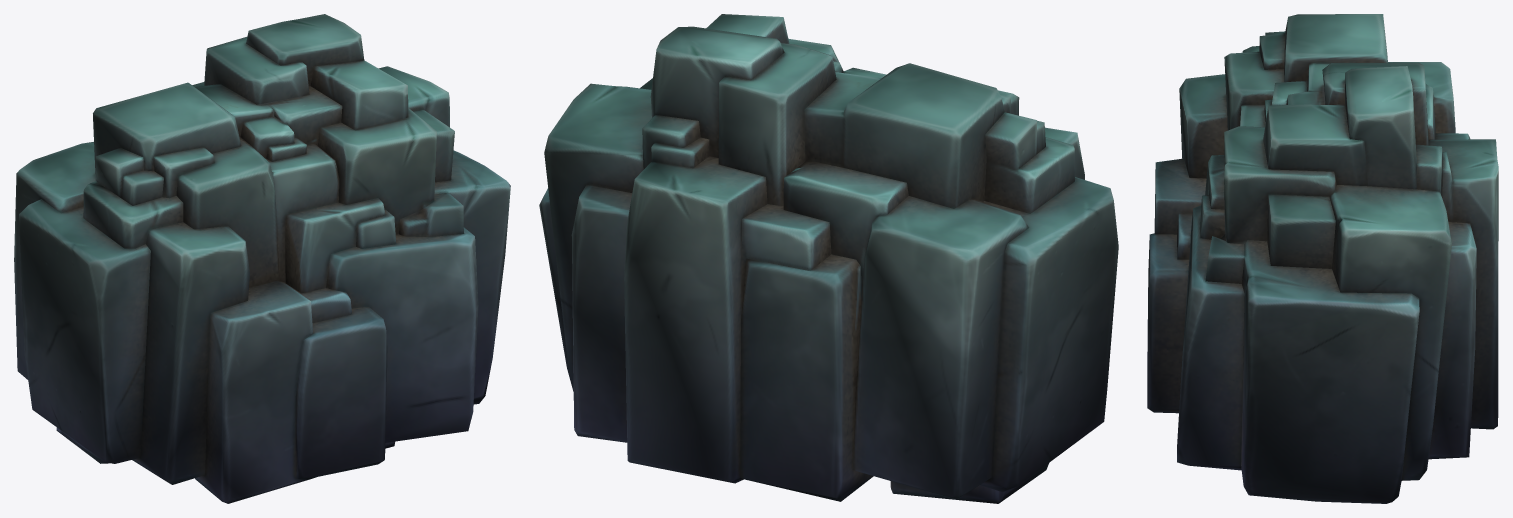
The model's file is SM_Gem_Titanium_002.fbx.
3 renders of one model, left to right at view 1: azimuth 30°, elevation 25°; view 2: azimuth 150°, elevation 25°; view 3: azimuth 270°, elevation 25°, orthographic. The views are drawn at different scales.
Visible parts, largest first — view 1: SM_Gem_Titanium_002; view 2: SM_Gem_Titanium_002; view 3: SM_Gem_Titanium_002.
Part boxes in pixels (left/top/right/bottom): SM_Gem_Titanium_002: left=14, top=14, right=510, bottom=503; SM_Gem_Titanium_002: left=539, top=14, right=1118, bottom=503; SM_Gem_Titanium_002: left=1147, top=14, right=1498, bottom=503.
Size of the model in its own units: 93.37 by 75.82 by 66.22.
